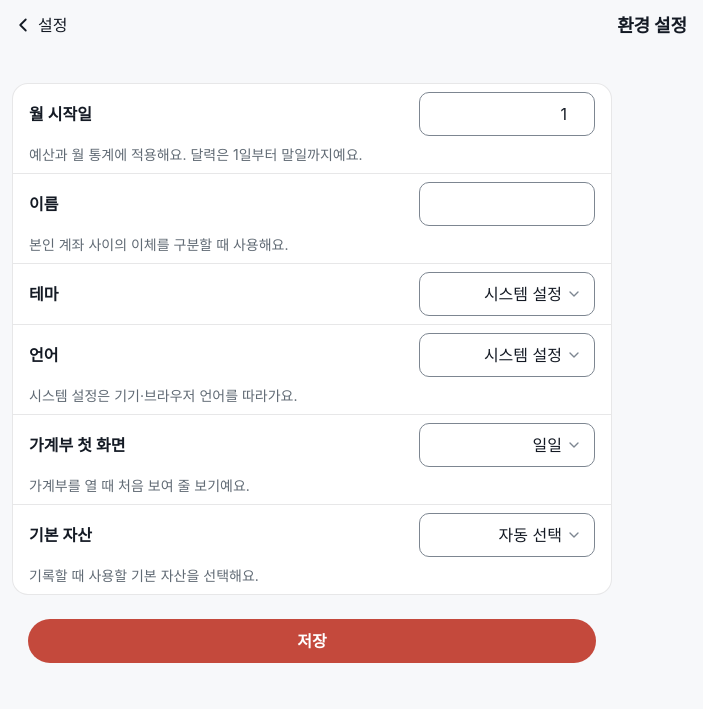
Test: Preferences › a blank month start is rejected without writing settings
The image size is (703, 709).
Clear the number field labelled "월 시작일" at {"x": 507, "y": 114}, box [419,92,595,136]
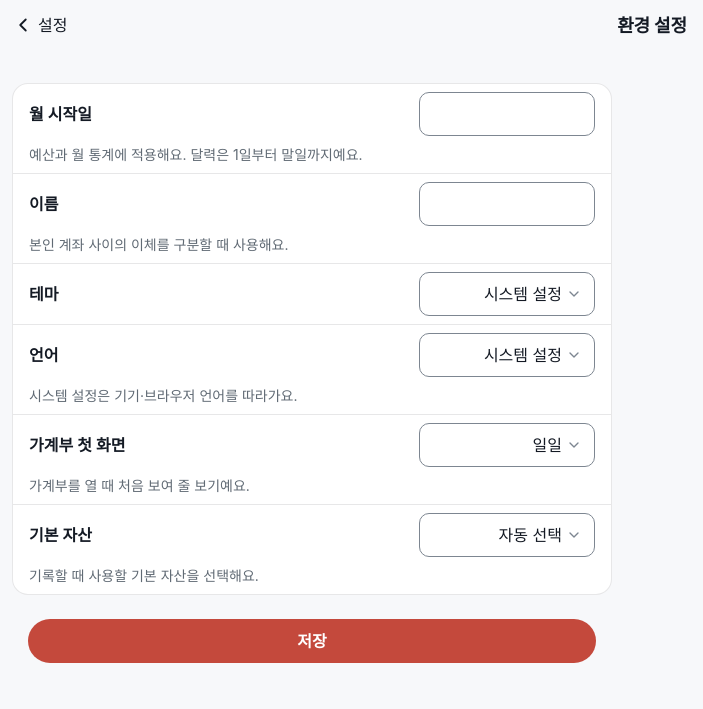
Submit the form named "저장"
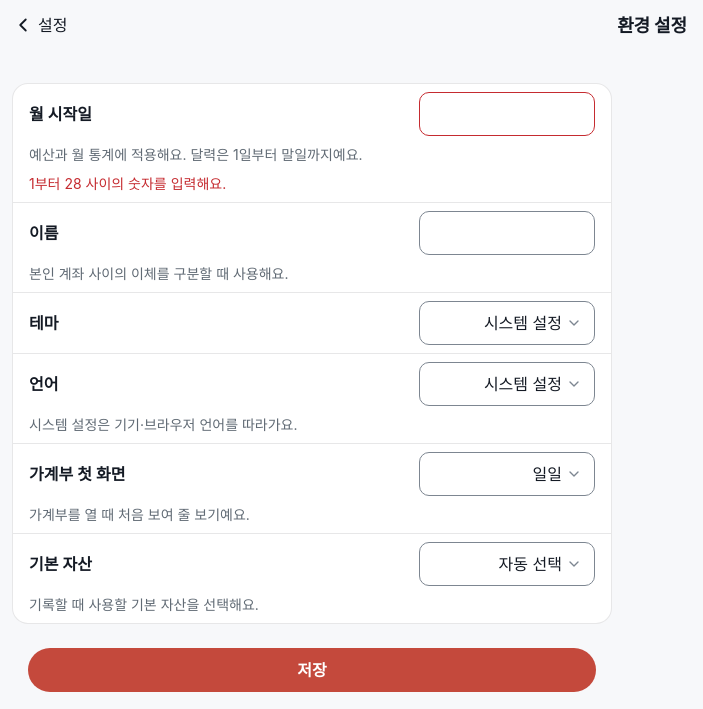
Check: the text "1부터 28 사이의 숫자를 입력해요." is shown, box [29,175,226,192]
